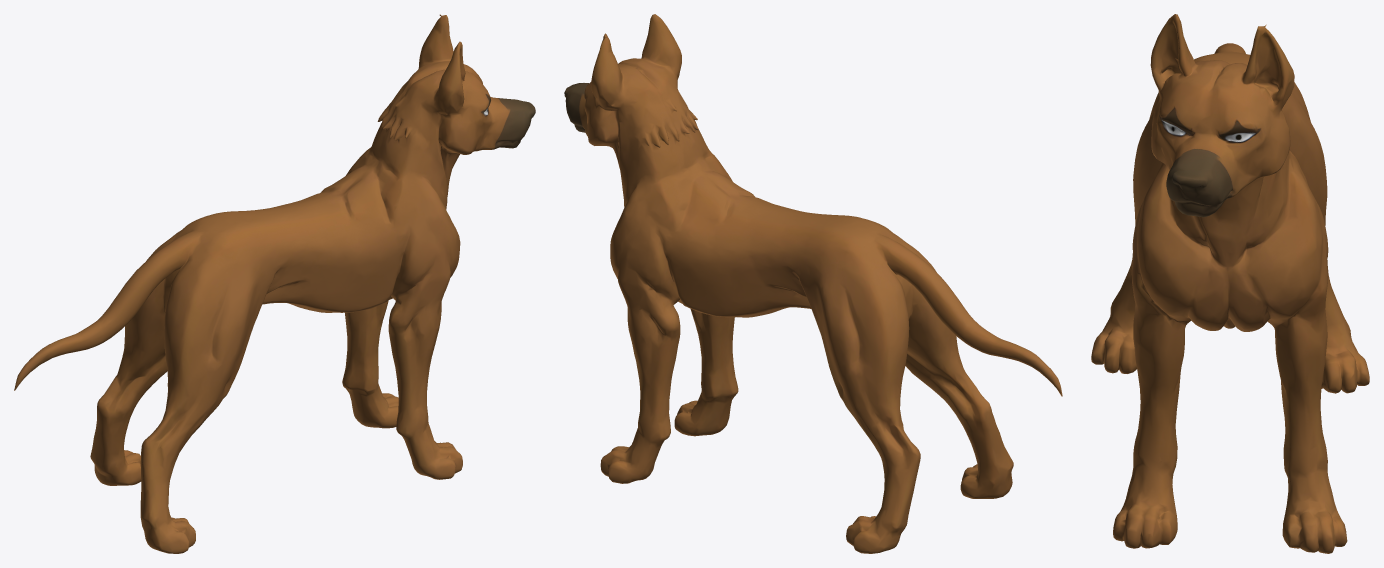
Rendered from ken.glb.
3 renders of one model, left to right at view 1: azimuth 30°, elevation 25°; view 2: azimuth 150°, elevation 25°; view 3: azimuth 270°, elevation 25°, orthographic. The views are drawn at different scales.
Parts seen in each view (by area): view 1: tripo_node_8da703de-a7c8-41fd-a05d-93e5f551313b; view 2: tripo_node_8da703de-a7c8-41fd-a05d-93e5f551313b; view 3: tripo_node_8da703de-a7c8-41fd-a05d-93e5f551313b.
Part boxes in pixels (<box>): tripo_node_8da703de-a7c8-41fd-a05d-93e5f551313b: <box>14,14,535,553</box>; tripo_node_8da703de-a7c8-41fd-a05d-93e5f551313b: <box>564,14,1062,553</box>; tripo_node_8da703de-a7c8-41fd-a05d-93e5f551313b: <box>1091,14,1369,553</box>.
Size of the model in its own units: 1 by 0.7847 by 0.3607.
1 material, 1 textured.
